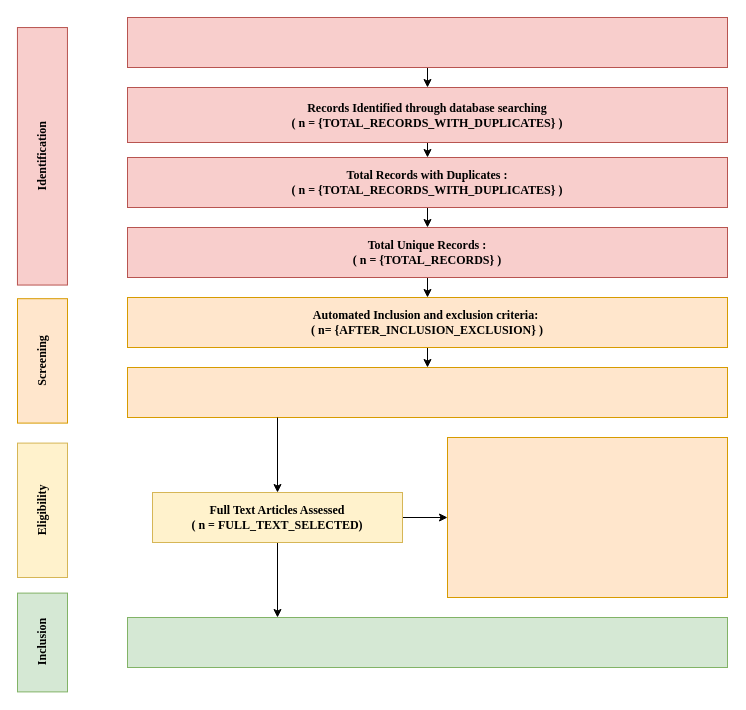
Image size: 746x710. Some labels were removed from this diagram. Each missing label, with the centre of its shape:
"Keywords: {ADD_KEYWORDS}" goes at (x=427, y=42).
"Manual assessment summary Ex: not relevant fundus images" goes at (x=587, y=517).
"SAMPLING_METHOD Sampling final selection ( n = SAMPLED_FINAL)" goes at (x=427, y=642).
"Titles and Abstracts screened (n = ABSTRACTS_SELECTED)" goes at (x=427, y=392).
